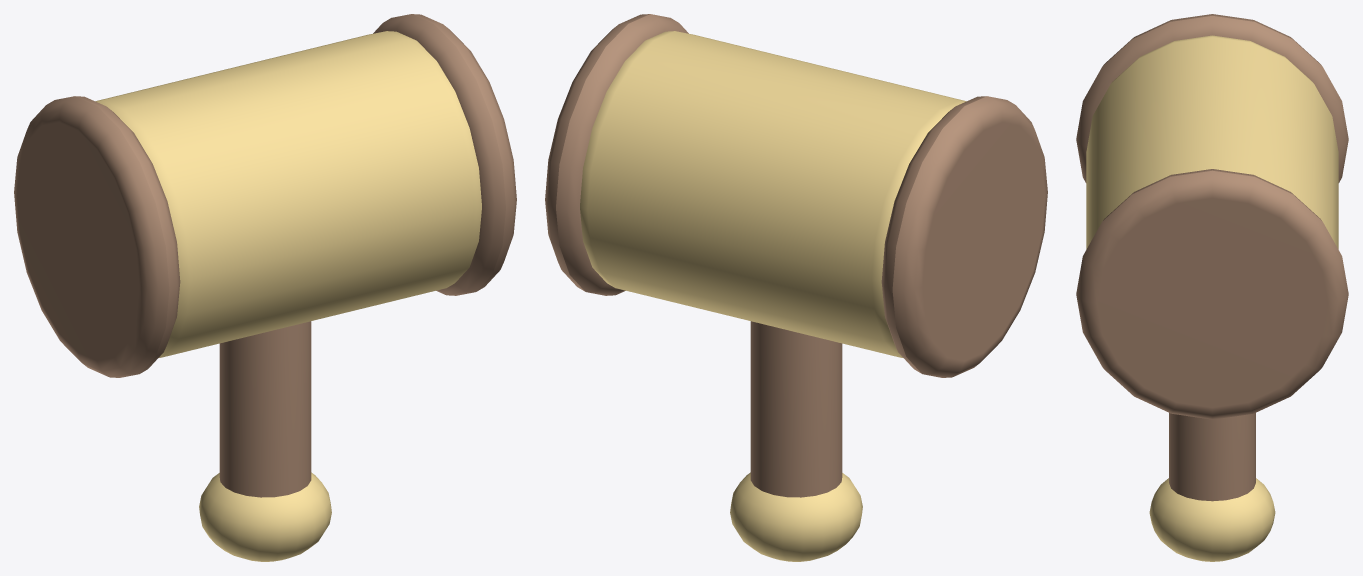
File: AnimatedGavel.fbx
3 renders of one model, left to right at view 1: azimuth 30°, elevation 25°; view 2: azimuth 150°, elevation 25°; view 3: azimuth 270°, elevation 25°, orthographic. The views are drawn at different scales.
Visible parts, largest first — view 1: Gavel head, Head band, Walnut handle, Head band.001, Handle pommel; view 2: Gavel head, Head band, Walnut handle, Head band.001, Handle pommel; view 3: Head band.001, Gavel head, Head band, Handle pommel, Walnut handle.
Boxes of the visible parts, box(x1,y1,x2,y2) form: Gavel head: box(95, 31, 481, 357); Head band: box(14, 96, 180, 377); Walnut handle: box(219, 321, 311, 497); Head band.001: box(373, 14, 516, 295); Handle pommel: box(199, 472, 331, 561); Gavel head: box(580, 31, 966, 357); Head band: box(881, 96, 1047, 377); Walnut handle: box(750, 321, 842, 497); Head band.001: box(545, 14, 688, 295); Handle pommel: box(730, 472, 862, 561); Head band.001: box(1076, 169, 1348, 419); Gavel head: box(1086, 35, 1338, 249); Head band: box(1076, 14, 1348, 182); Handle pommel: box(1149, 478, 1275, 561); Walnut handle: box(1169, 413, 1255, 501).
Bounding box in the file's own units: 35.6 × 23.8 × 44.4.
